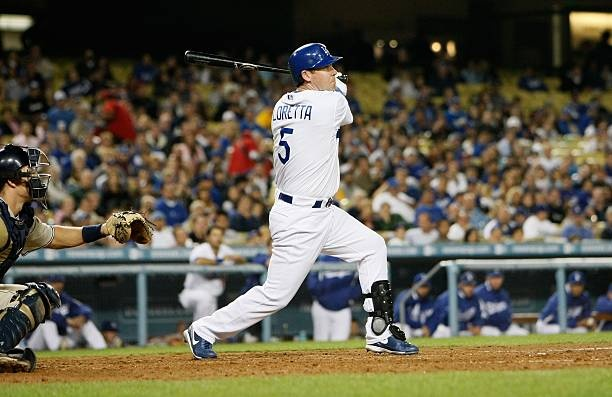bita: (185, 48, 305, 77)
